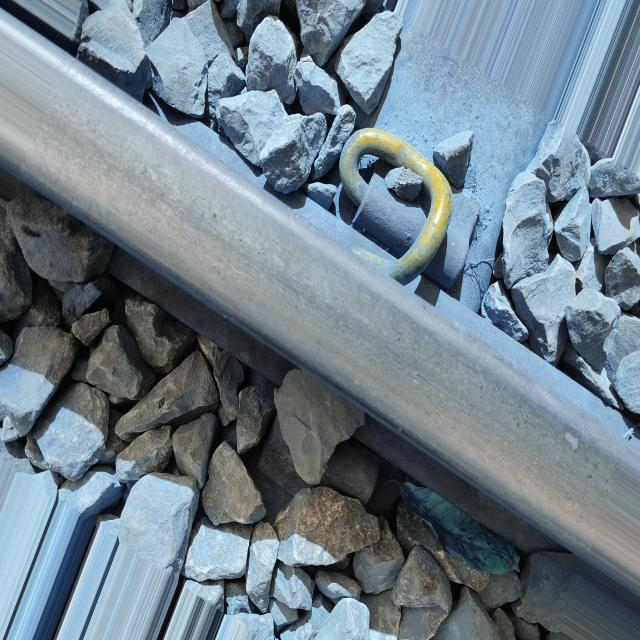Good Fasteners: (326, 118, 495, 303)
Missing Fastener: (240, 399, 401, 554)
